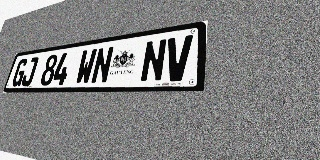4: (51, 52, 73, 85)
8: (39, 54, 59, 86)
G: (11, 58, 29, 87)
J: (20, 57, 39, 86)
N: (140, 38, 167, 82), (90, 46, 114, 84)
V: (163, 35, 193, 82)
W: (74, 48, 97, 85)
